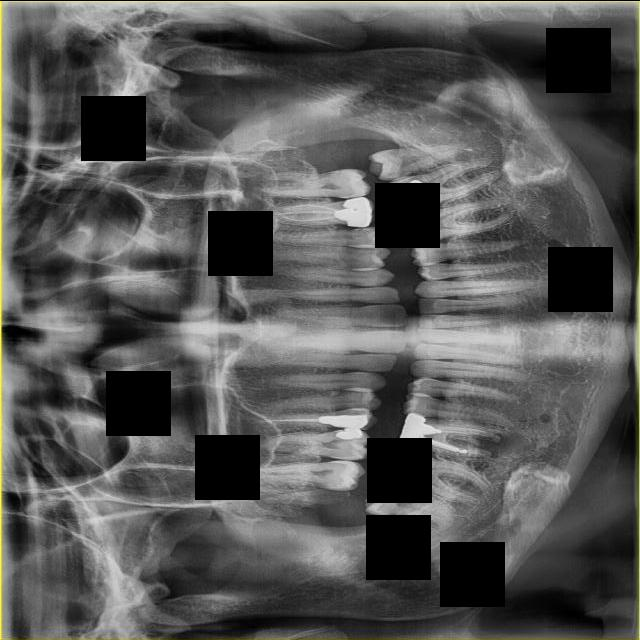71: (419, 434, 461, 453)
72: (261, 484, 353, 514)
74: (431, 422, 493, 435), (284, 202, 339, 211), (279, 214, 336, 221), (441, 428, 488, 436), (272, 210, 333, 214), (257, 418, 319, 421), (467, 450, 486, 454)
NucleOSS Implant: (396, 410, 444, 458), (384, 180, 429, 223), (331, 195, 376, 232), (402, 206, 437, 233), (318, 412, 370, 430), (386, 451, 409, 479), (408, 175, 430, 199), (400, 467, 425, 488), (334, 426, 363, 439)
Sterngold Implant: (346, 226, 372, 232), (329, 168, 348, 175), (405, 449, 422, 454), (343, 193, 357, 198)
